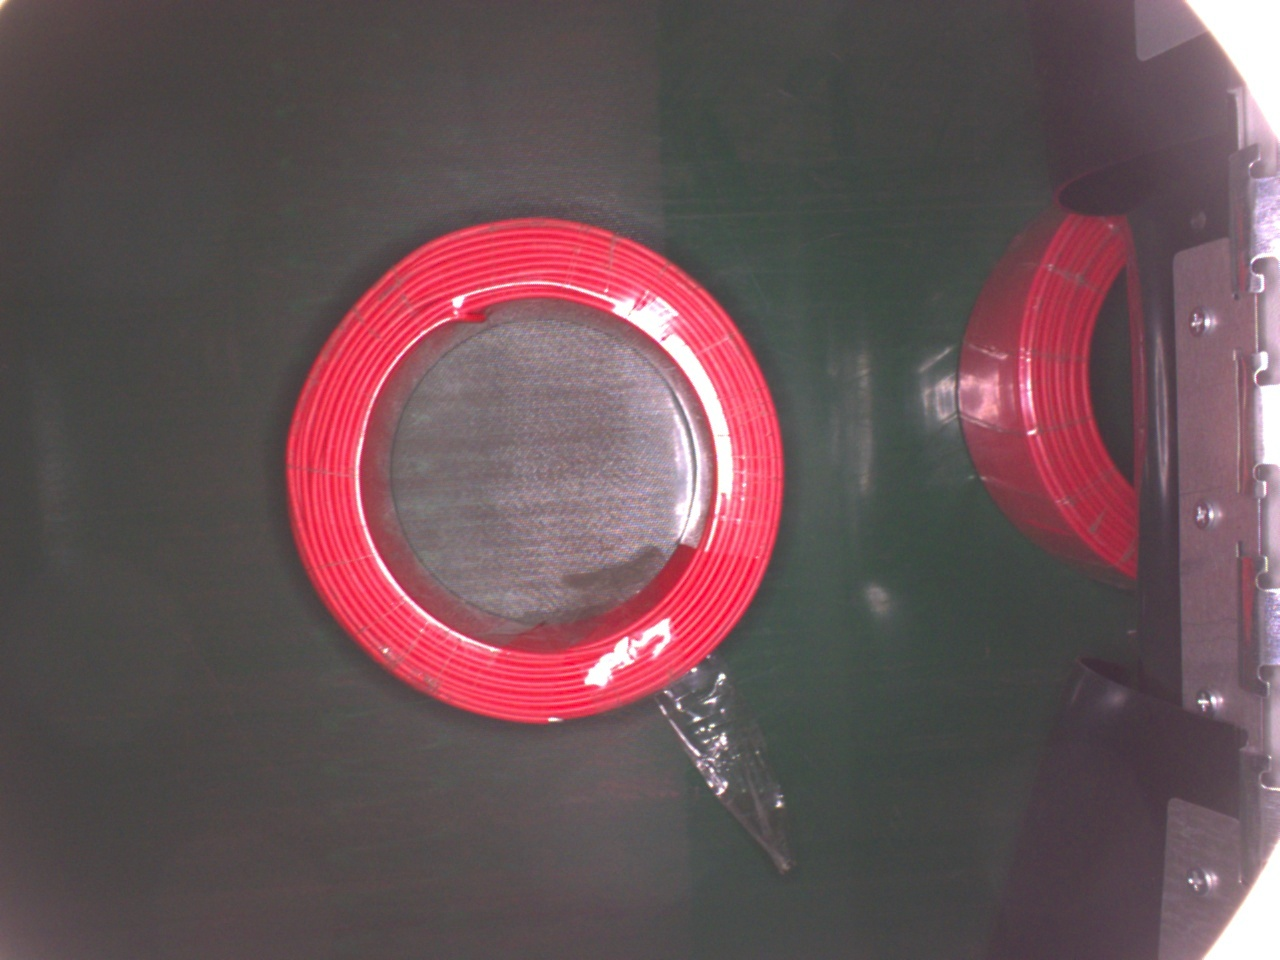red: (284, 216, 780, 726), (956, 195, 1134, 596)
